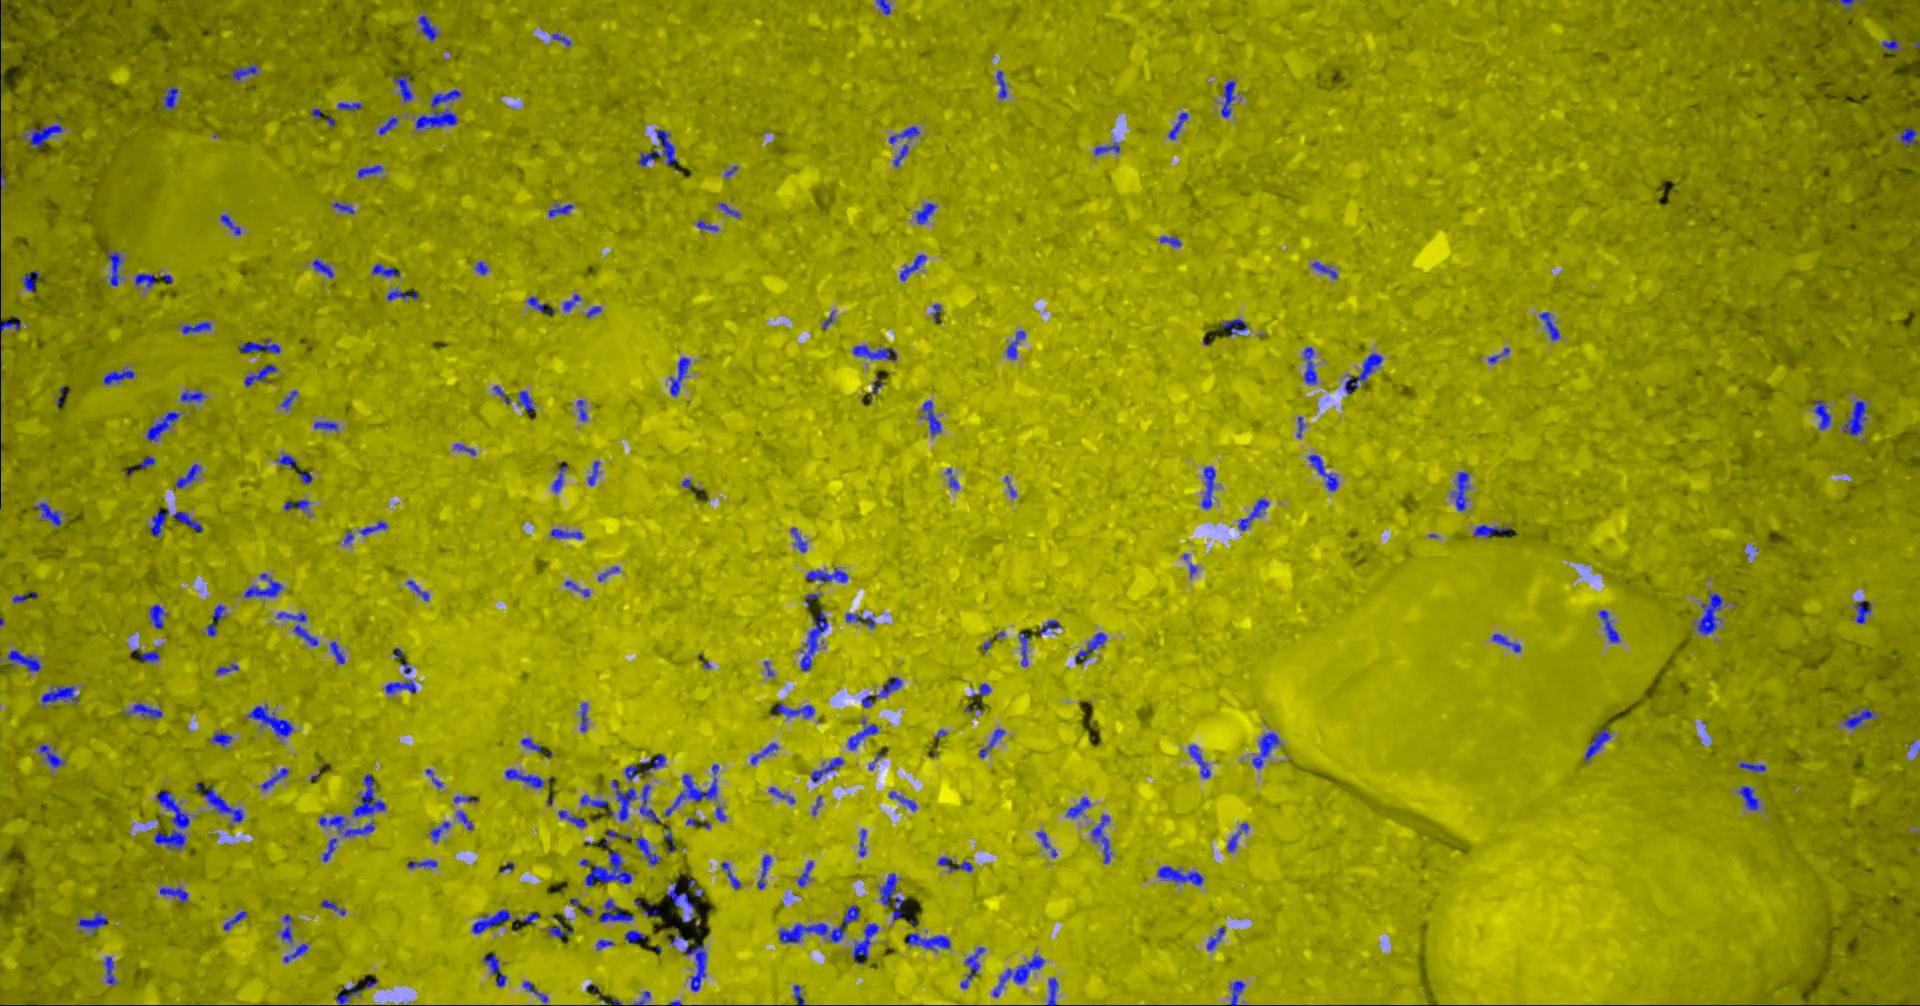ant: (780, 904, 861, 942), (665, 763, 720, 815), (994, 954, 1046, 997), (585, 840, 632, 887), (670, 934, 709, 991), (155, 790, 190, 848), (196, 782, 245, 822), (417, 89, 462, 130), (801, 610, 829, 671), (472, 909, 541, 934), (249, 702, 295, 737), (1346, 353, 1384, 392), (639, 130, 679, 166), (278, 611, 320, 645), (354, 774, 387, 817), (668, 882, 701, 922), (863, 676, 904, 708), (320, 814, 376, 837), (1698, 591, 1724, 635), (881, 873, 905, 921), (1309, 453, 1340, 492), (1253, 730, 1283, 768), (855, 922, 880, 963), (613, 779, 637, 821), (1076, 633, 1109, 663), (147, 412, 182, 441), (1092, 814, 1112, 862), (1239, 498, 1270, 530), (850, 718, 880, 749), (963, 946, 985, 988), (245, 573, 284, 597), (1159, 865, 1205, 885), (1585, 728, 1613, 761), (25, 124, 63, 149), (811, 757, 844, 782), (1844, 400, 1868, 434), (670, 357, 691, 396), (641, 782, 662, 822), (908, 932, 952, 950), (601, 899, 635, 922), (485, 951, 508, 986), (980, 728, 1006, 758), (505, 768, 545, 788), (245, 365, 279, 386), (1190, 744, 1211, 779), (637, 835, 662, 865), (1600, 608, 1622, 641), (1453, 471, 1470, 511), (77, 911, 109, 932), (902, 254, 928, 279), (43, 685, 79, 704), (9, 650, 42, 671), (1844, 708, 1877, 728), (34, 502, 63, 525), (923, 400, 942, 434), (808, 567, 850, 582), (262, 767, 290, 790), (1228, 822, 1250, 851), (126, 702, 164, 719), (752, 742, 778, 765), (239, 339, 282, 353), (855, 345, 898, 359), (1203, 466, 1217, 509), (175, 511, 204, 531), (178, 464, 202, 488), (890, 124, 921, 144), (109, 248, 124, 286), (778, 702, 817, 718), (41, 744, 66, 767), (1738, 785, 1761, 810), (1037, 831, 1059, 857), (208, 605, 226, 636), (1222, 80, 1237, 117), (1542, 311, 1561, 340), (1008, 330, 1027, 359), (1493, 633, 1523, 652), (523, 981, 549, 1002), (1170, 112, 1190, 138), (1815, 399, 1832, 429), (938, 856, 974, 871), (395, 74, 414, 102), (136, 273, 174, 287), (890, 791, 918, 810), (104, 367, 136, 384), (758, 854, 773, 888), (1305, 347, 1319, 384), (1223, 318, 1250, 337), (151, 509, 170, 536), (554, 461, 570, 492), (643, 753, 667, 774), (1068, 796, 1092, 817), (223, 909, 248, 930), (419, 15, 438, 41), (1313, 260, 1338, 279), (723, 862, 742, 888), (917, 202, 938, 224), (221, 213, 243, 235), (430, 821, 452, 842), (408, 579, 430, 600), (232, 64, 260, 80), (528, 296, 556, 312), (560, 810, 588, 827), (161, 887, 189, 903), (150, 605, 169, 629), (284, 942, 309, 962), (1476, 525, 1511, 537), (847, 612, 876, 627), (770, 786, 796, 803), (799, 860, 815, 887), (361, 520, 389, 535), (386, 680, 417, 694), (314, 259, 335, 278), (1855, 600, 1873, 622), (1208, 927, 1225, 950), (389, 287, 420, 300), (373, 263, 401, 277), (281, 915, 295, 942), (164, 86, 180, 109), (894, 144, 910, 166), (582, 794, 611, 807), (792, 527, 808, 551), (566, 580, 590, 596), (323, 899, 347, 915), (549, 922, 573, 937), (1230, 981, 1246, 1005), (1901, 127, 1920, 146), (518, 390, 536, 410), (24, 269, 41, 291), (1040, 619, 1062, 635), (550, 203, 575, 217), (105, 956, 118, 984), (427, 768, 444, 788), (324, 837, 338, 861), (1, 316, 22, 333), (183, 321, 212, 333), (720, 202, 742, 217), (522, 737, 543, 752), (1096, 141, 1121, 154), (589, 460, 602, 485), (552, 528, 584, 539), (997, 70, 1008, 98), (1048, 977, 1059, 1005), (564, 293, 582, 311), (380, 117, 399, 133), (1, 138, 8, 188), (457, 810, 474, 829), (277, 453, 297, 469), (359, 165, 383, 178), (626, 930, 650, 942), (284, 499, 311, 511), (599, 567, 621, 580), (331, 641, 345, 663), (494, 385, 510, 403), (282, 390, 298, 408), (1020, 633, 1029, 666), (182, 390, 207, 401), (14, 591, 39, 602), (665, 827, 677, 852), (643, 902, 662, 917), (213, 732, 234, 746), (334, 201, 356, 213), (947, 467, 960, 489), (409, 859, 439, 868), (552, 32, 571, 46), (973, 683, 992, 697), (1161, 235, 1183, 246), (455, 443, 477, 455), (217, 663, 240, 674), (607, 829, 632, 840), (1740, 762, 1768, 771), (860, 828, 869, 856), (698, 218, 720, 230), (315, 420, 339, 431), (597, 937, 616, 950), (794, 984, 805, 1005), (636, 989, 651, 1005), (626, 763, 640, 780), (1841, 0, 1863, 10), (578, 399, 588, 420), (582, 702, 589, 730), (1884, 38, 1901, 51), (141, 650, 161, 661), (877, 0, 891, 14), (339, 102, 364, 109), (298, 471, 314, 484), (455, 795, 480, 803), (141, 456, 157, 467), (476, 260, 489, 274), (716, 805, 728, 821), (337, 995, 350, 1005)
